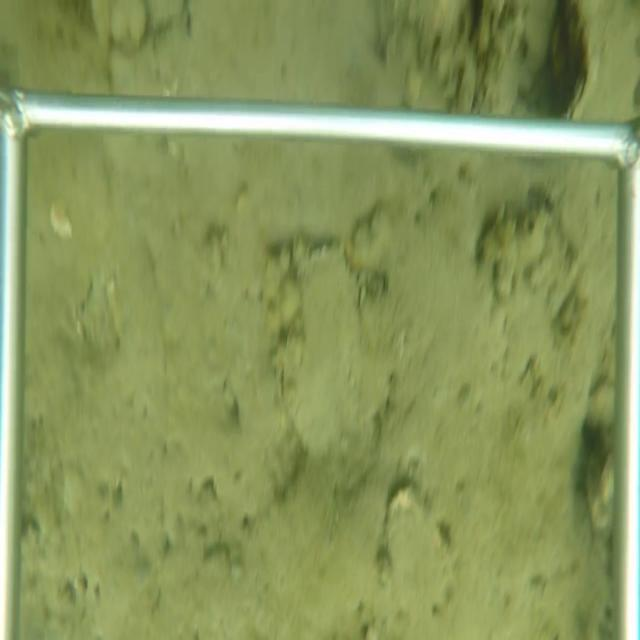Oyster-Indeterminate: (272, 239, 373, 465)
